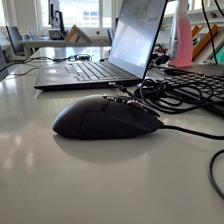mouse: (49, 94, 161, 141)
